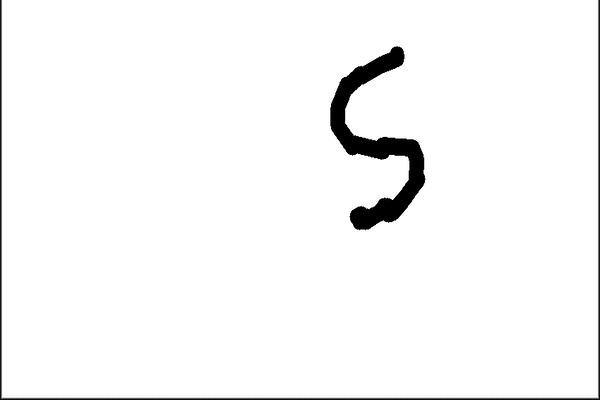S: (323, 40, 431, 234)
